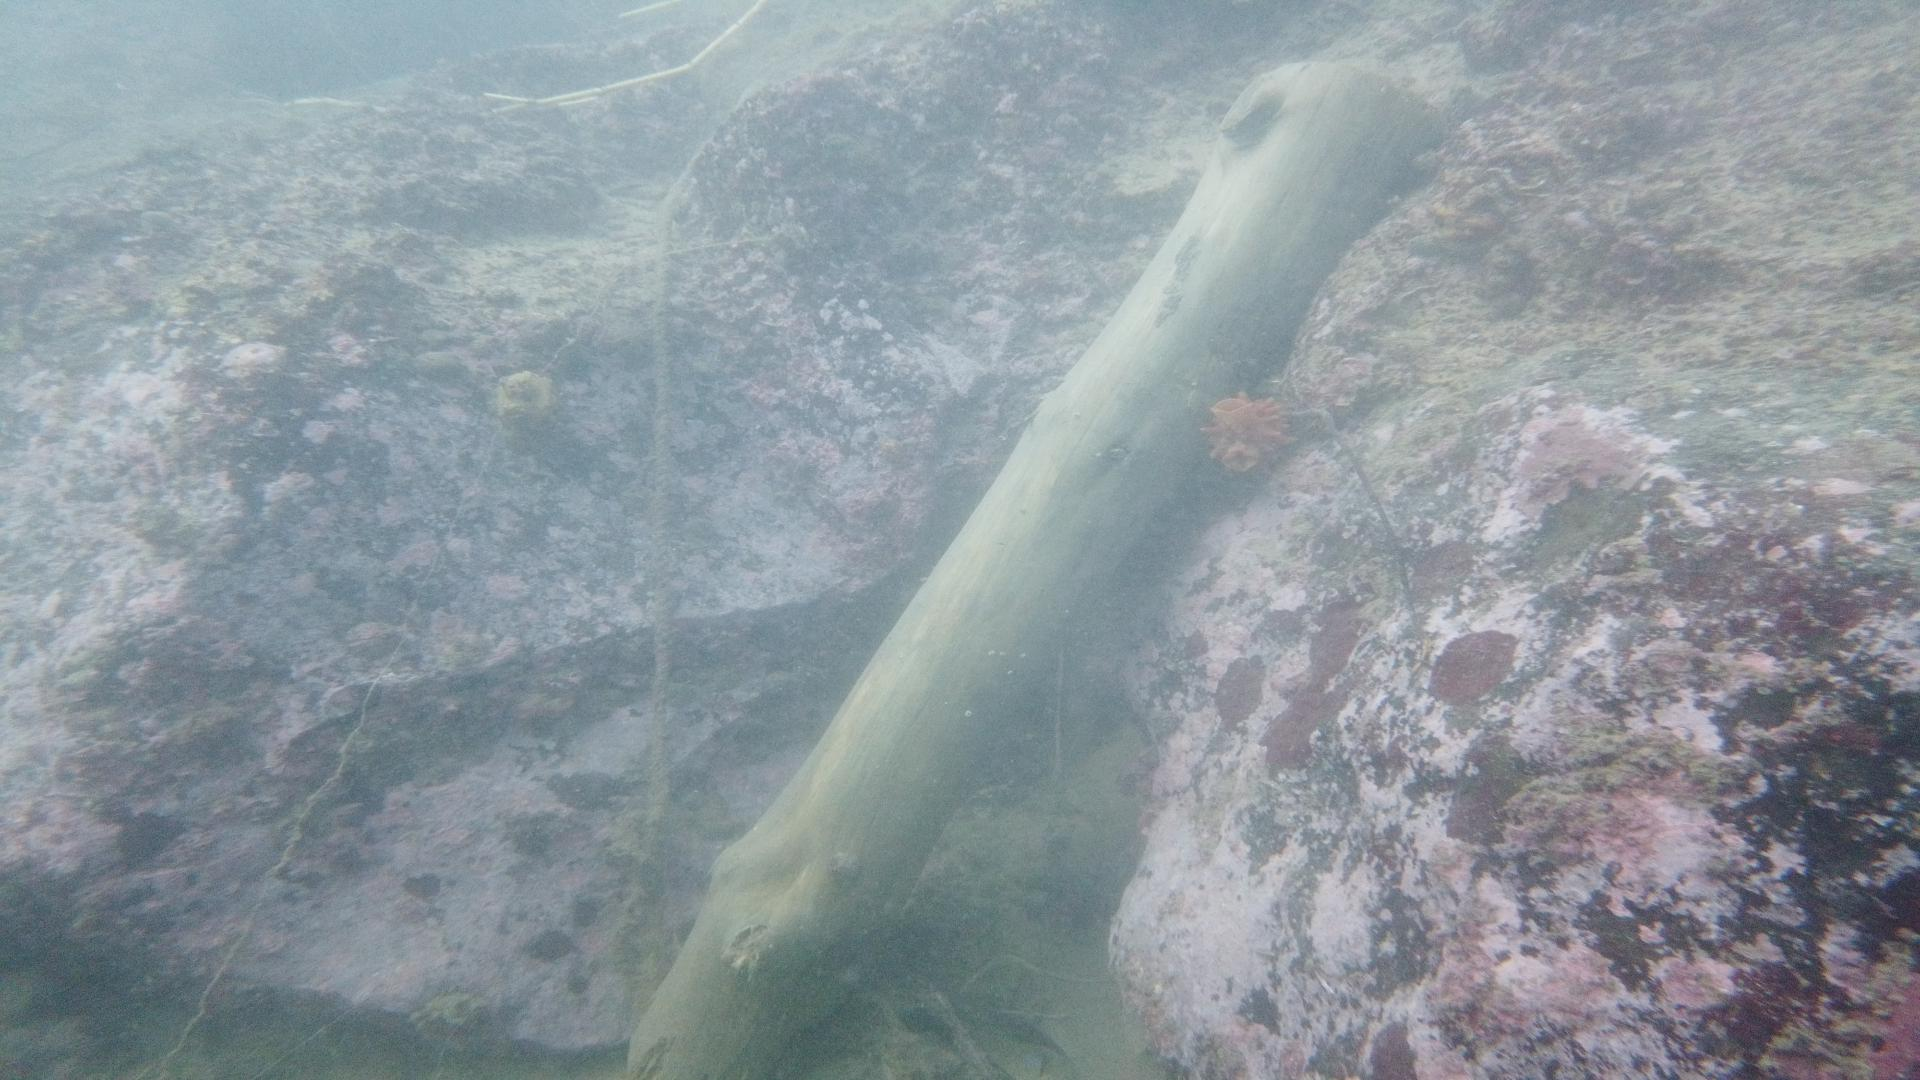rope: (646, 86, 758, 823)
wood: (621, 58, 1420, 1080)
